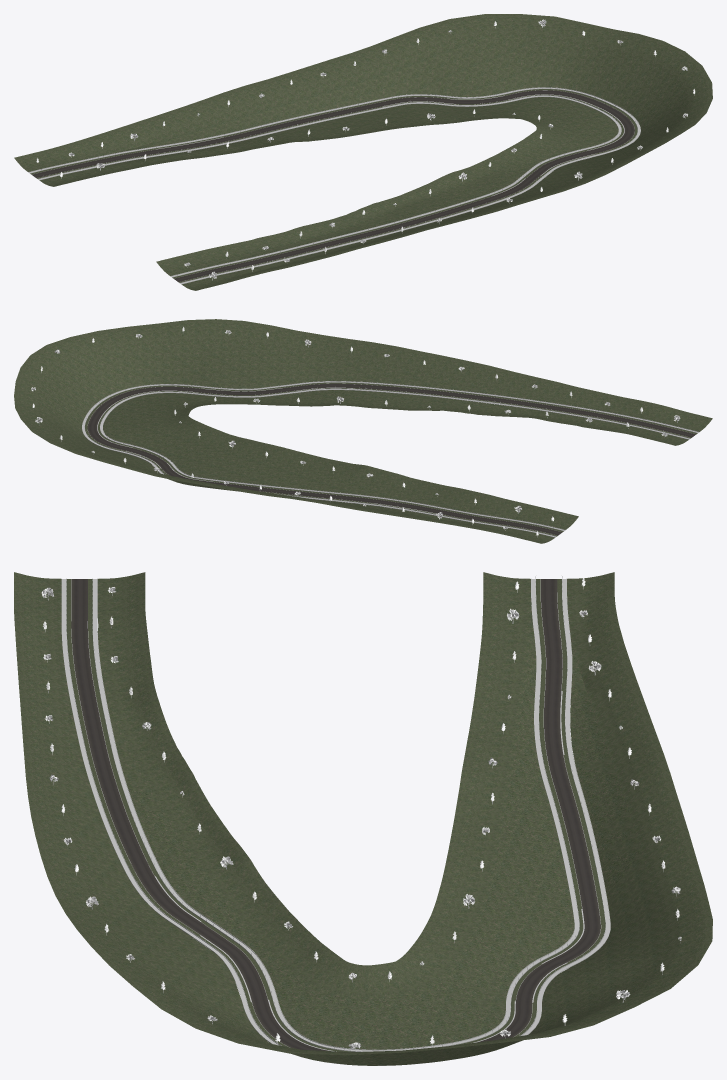
3 renders of one model, top to bottom at view 1: azimuth 30°, elevation 25°; view 2: azimuth 150°, elevation 25°; view 3: azimuth 270°, elevation 25°, orthographic. The views are drawn at different scales.
Visible parts, largest first — view 1: Grass, Track, Road, Trees; view 2: Grass, Track, Road, Trees; view 3: Grass, Road, Track, Trees.
Part boxes in pixels (x1,y1,x2,y2): Grass: [14, 14, 712, 290]; Track: [28, 87, 640, 284]; Road: [32, 90, 634, 282]; Trees: [36, 19, 695, 280]; Grass: [14, 319, 712, 543]; Track: [82, 381, 698, 537]; Road: [87, 383, 695, 535]; Trees: [31, 326, 680, 537]; Grass: [14, 572, 712, 1065]; Road: [71, 579, 600, 1051]; Track: [61, 576, 610, 1065]; Trees: [41, 578, 681, 1051].
Size of what is drawn, in the model's own units: 123314 by 7975 by 74469.
